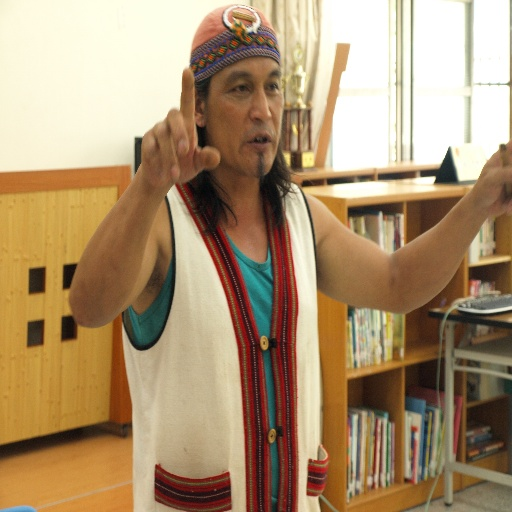hand: (123, 108, 217, 193), (475, 139, 511, 218)
